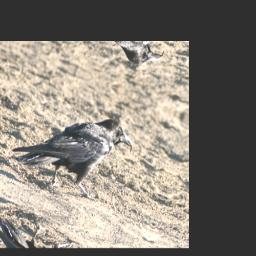Crow: (4, 83, 139, 216)
